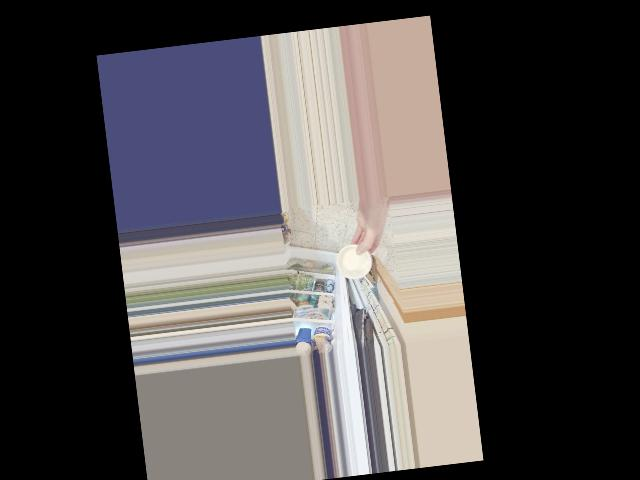cotage: (334, 243, 375, 283)
